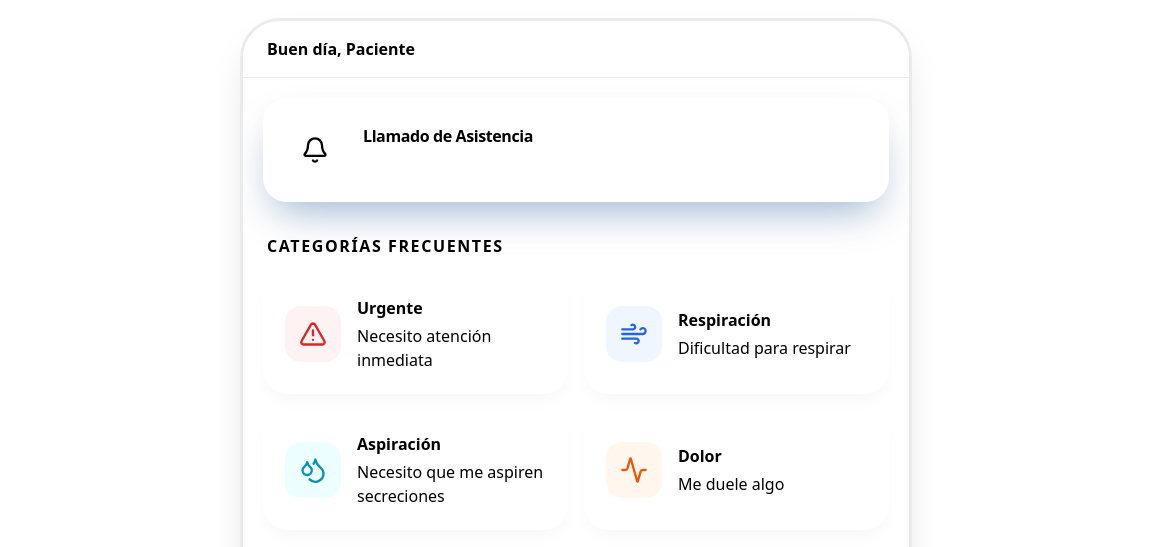
it: Category detail › shows phrases for urgente category (all categories have seed data)
Click the button "Urgente Necesito atención inmediata": (416,334) left=263, top=274, right=568, bottom=394
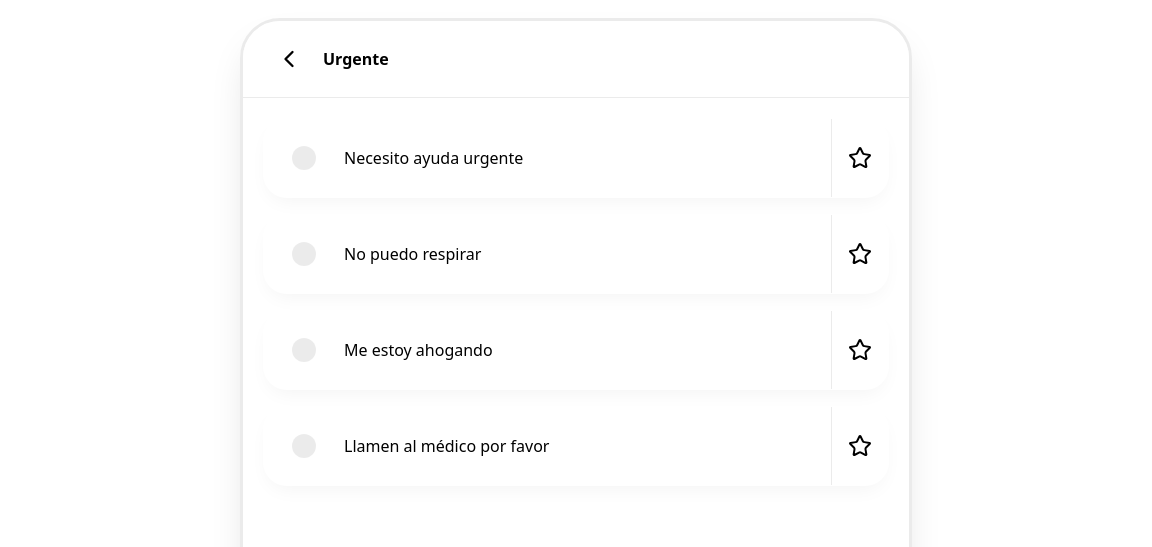
Result: the text "Necesito ayuda urgente" is shown at left=344, top=148, right=523, bottom=168
Result: the text "No puedo respirar" is shown at left=344, top=244, right=481, bottom=264
